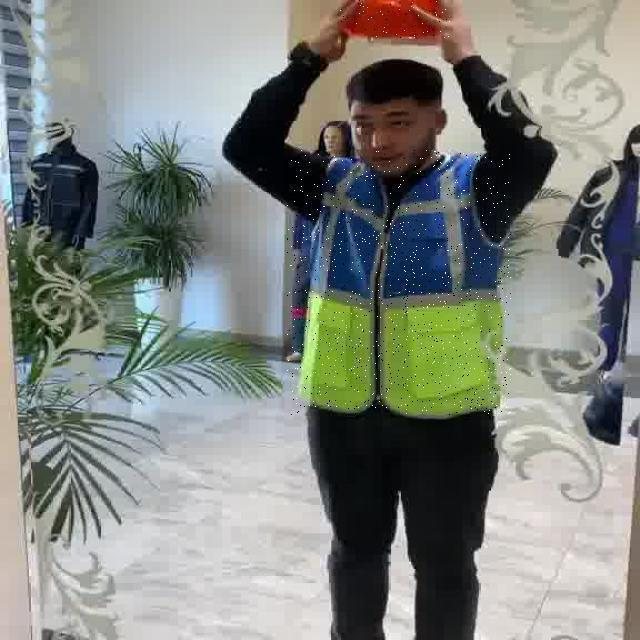helmet: (338, 0, 450, 38)
no glove: (294, 11, 357, 83), (438, 20, 502, 83)
no helmet: (338, 46, 446, 177)
person: (210, 0, 556, 639)
vest: (288, 150, 512, 416)
